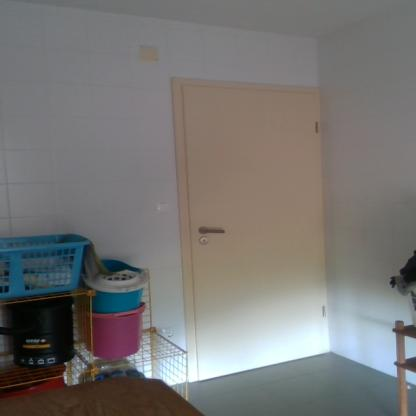closed: (164, 78, 332, 376)
